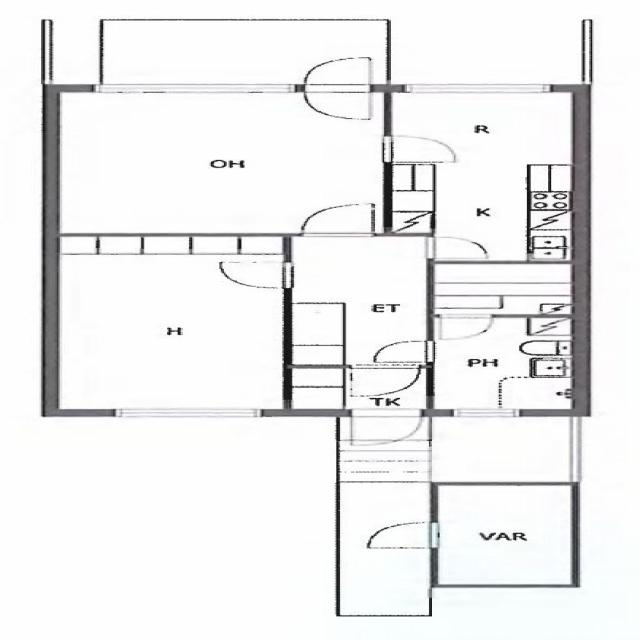door: (352, 410, 422, 445), (305, 84, 372, 120), (305, 57, 372, 93), (303, 205, 373, 236), (352, 365, 420, 396), (384, 136, 457, 162), (220, 262, 292, 288), (368, 523, 438, 548), (427, 237, 489, 259), (441, 314, 495, 339), (375, 342, 435, 362)
